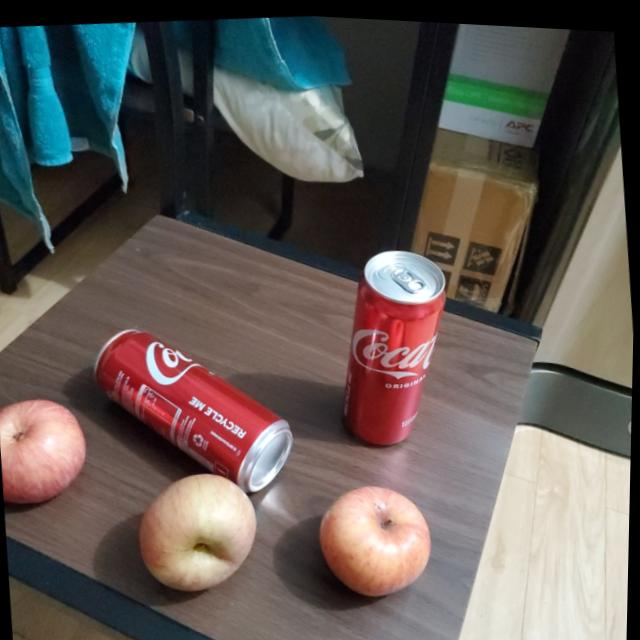apple: (137, 464, 265, 594), (317, 473, 440, 597), (0, 390, 92, 505)
coke: (94, 314, 305, 506), (332, 234, 466, 442)
